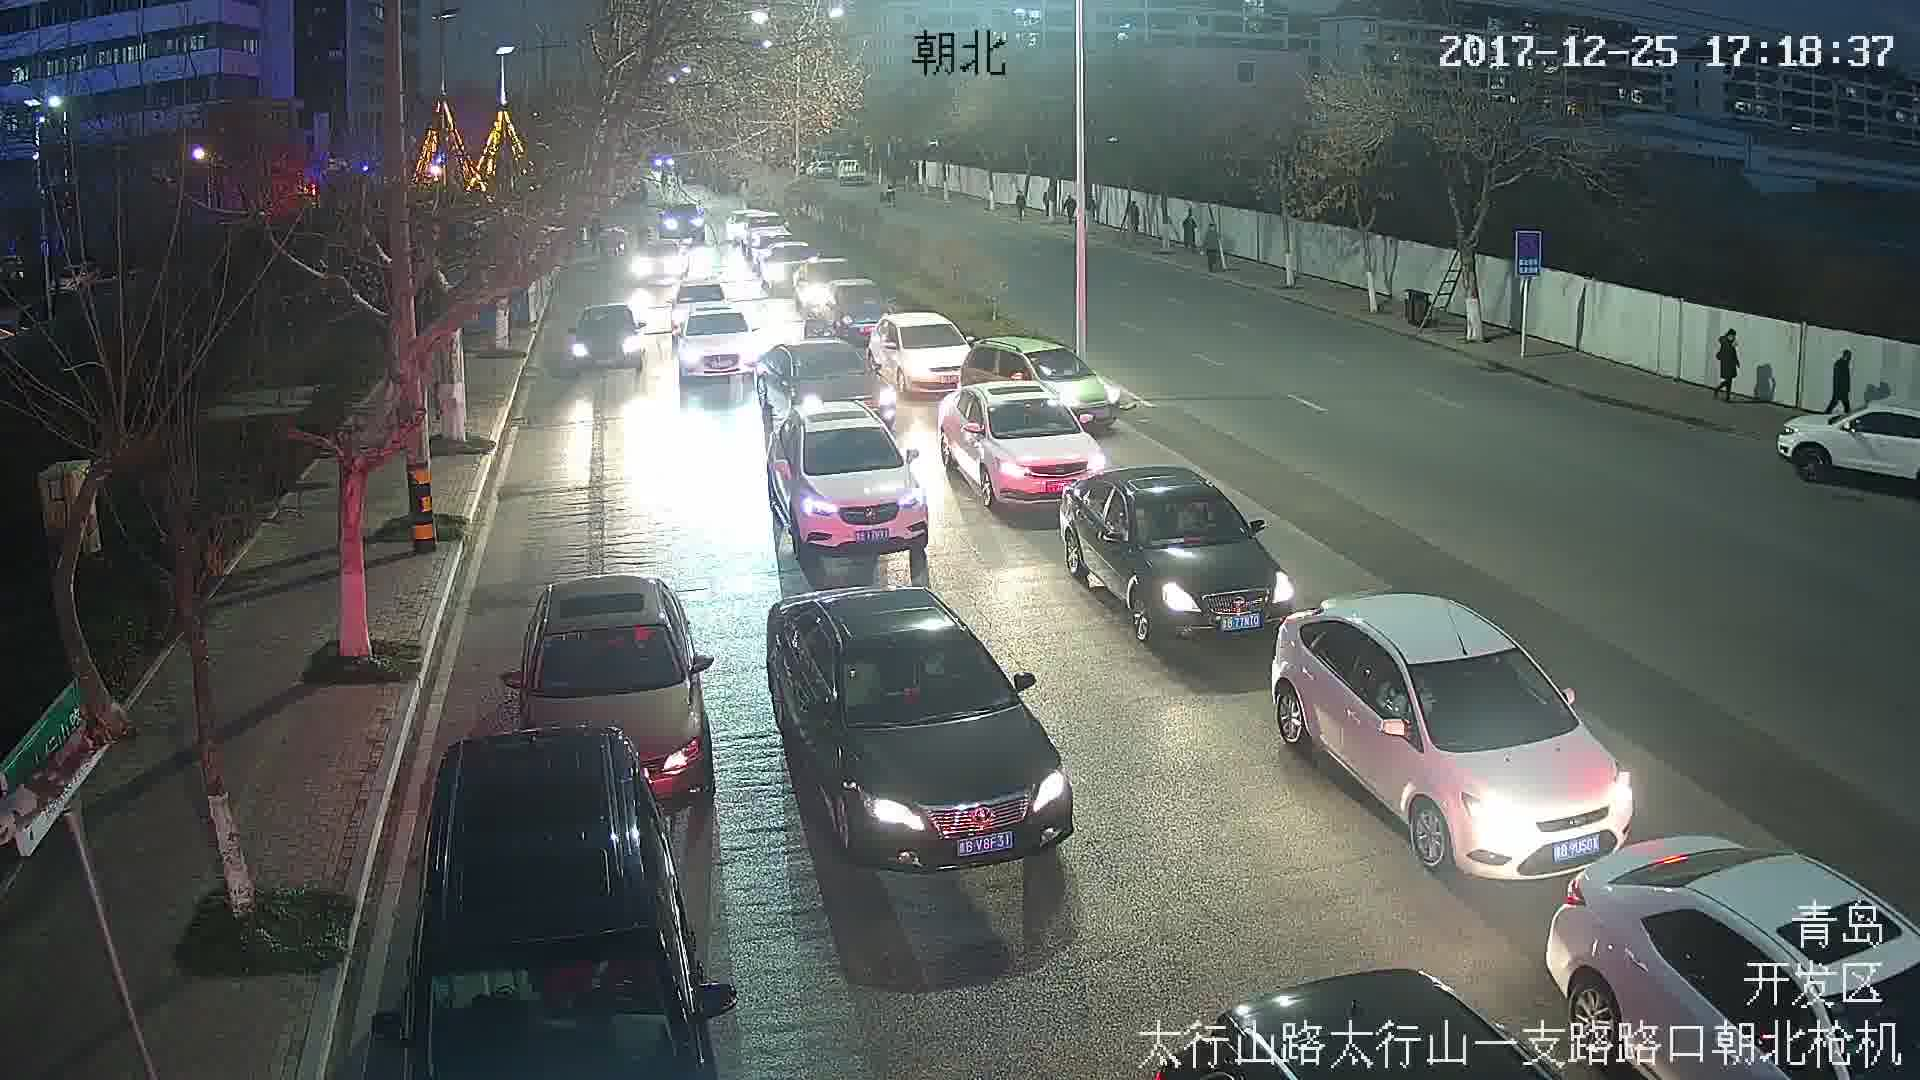car: (1271, 591, 1635, 882), (763, 589, 1077, 871), (507, 575, 714, 798), (1060, 467, 1295, 645), (764, 398, 931, 555), (937, 388, 1110, 510), (874, 312, 977, 389), (668, 306, 766, 380), (566, 300, 646, 373)
person: (1716, 324, 1741, 402), (1830, 346, 1857, 412)
